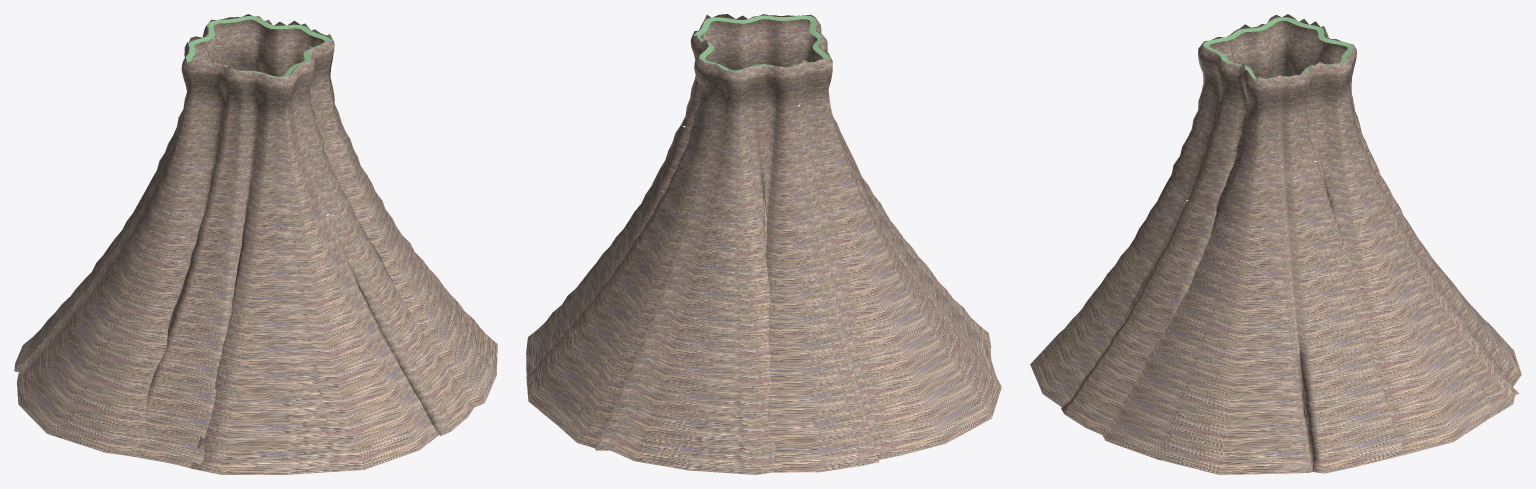
Rendered from CliffWall_stack_05.glb.
3 renders of one model, left to right at view 1: azimuth 30°, elevation 25°; view 2: azimuth 150°, elevation 25°; view 3: azimuth 270°, elevation 25°, orthographic.
Parts seen in each view (by area): view 1: CliffWall_stack_05-rock0, CliffWall_stack_05-lip0; view 2: CliffWall_stack_05-rock0, CliffWall_stack_05-lip0; view 3: CliffWall_stack_05-rock0, CliffWall_stack_05-lip0.
Boxes of the visible parts, x1,y1,x2,y2 form: CliffWall_stack_05-rock0: (14,14,497,474); CliffWall_stack_05-lip0: (186,16,330,77); CliffWall_stack_05-rock0: (526,14,1001,474); CliffWall_stack_05-lip0: (694,15,828,71); CliffWall_stack_05-rock0: (1030,14,1521,474); CliffWall_stack_05-lip0: (1203,17,1353,79).
Size of the model in its own units: 686 by 505 by 686.
Materials: 4 (1 with a texture image).
